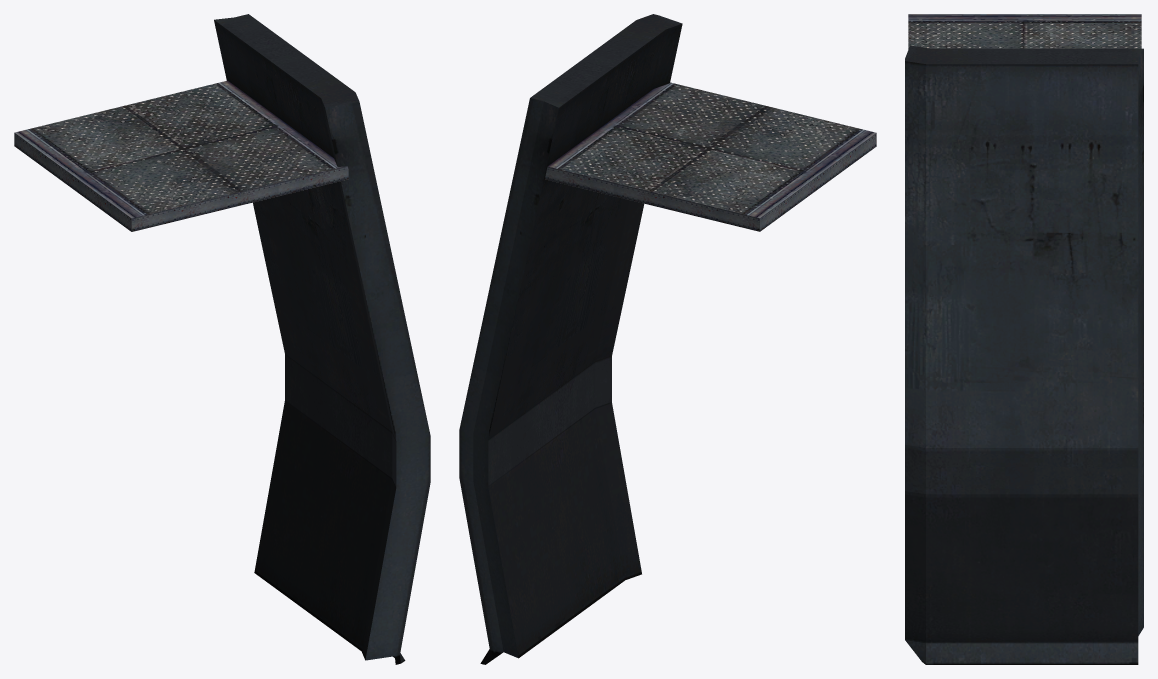
File: combine_barricade_tall01a.glb
3 renders of one model, left to right at view 1: azimuth 30°, elevation 25°; view 2: azimuth 150°, elevation 25°; view 3: azimuth 270°, elevation 25°, orthographic.
Visible parts, largest first — view 1: combine_barricade_tall01a; view 2: combine_barricade_tall01a; view 3: combine_barricade_tall01a.
Boxes of the visible parts, x1,y1,x2,y2 form: combine_barricade_tall01a: (14, 14, 430, 664); combine_barricade_tall01a: (459, 14, 876, 664); combine_barricade_tall01a: (905, 14, 1143, 664).
Bounding box in the file's own units: 1.78 × 3.25 × 1.22.
Materials: 2 (2 with a texture image).
